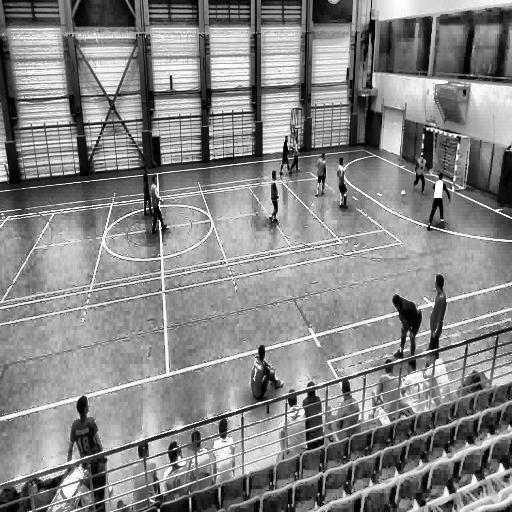ball: (401, 188, 406, 198)
player: (392, 292, 422, 360), (428, 275, 446, 352), (427, 172, 450, 229), (150, 175, 168, 234), (413, 152, 429, 196), (336, 156, 349, 210), (269, 169, 280, 224), (278, 133, 292, 175), (315, 152, 327, 196), (290, 136, 302, 177), (142, 165, 151, 217)
